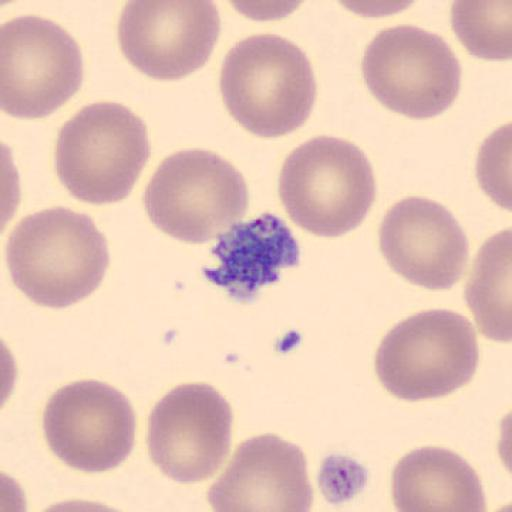Platelet: (200, 209, 305, 306), (314, 450, 372, 508)
RBC: (3, 204, 112, 311), (216, 30, 319, 140), (141, 145, 250, 247), (276, 132, 378, 240), (53, 100, 152, 206), (372, 306, 480, 403), (360, 22, 464, 122), (40, 376, 138, 475), (144, 380, 234, 486), (376, 195, 470, 293), (2, 12, 86, 121), (115, 0, 222, 83), (206, 431, 315, 512), (389, 443, 489, 512), (463, 224, 512, 345), (449, 0, 511, 63), (473, 118, 512, 217), (0, 139, 23, 245), (492, 398, 512, 510), (224, 0, 315, 23), (26, 495, 148, 512), (331, 0, 427, 20), (0, 333, 20, 413), (1, 467, 29, 512), (496, 403, 512, 477)
